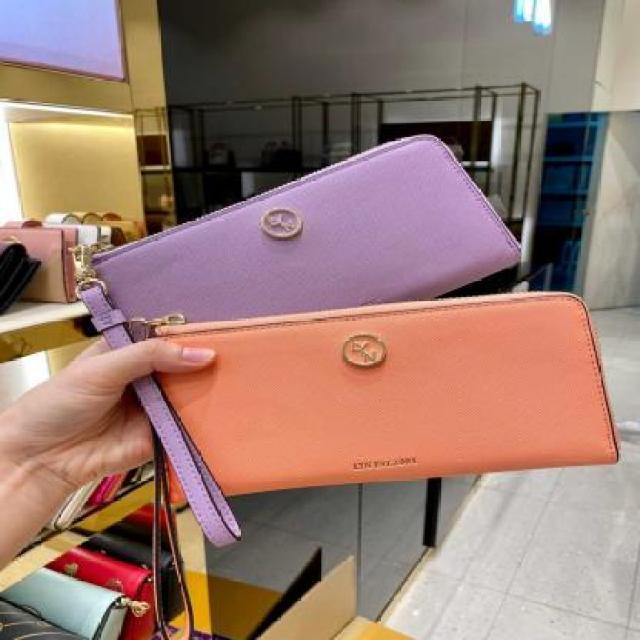Bag: (68, 92, 592, 419), (83, 275, 640, 503)
